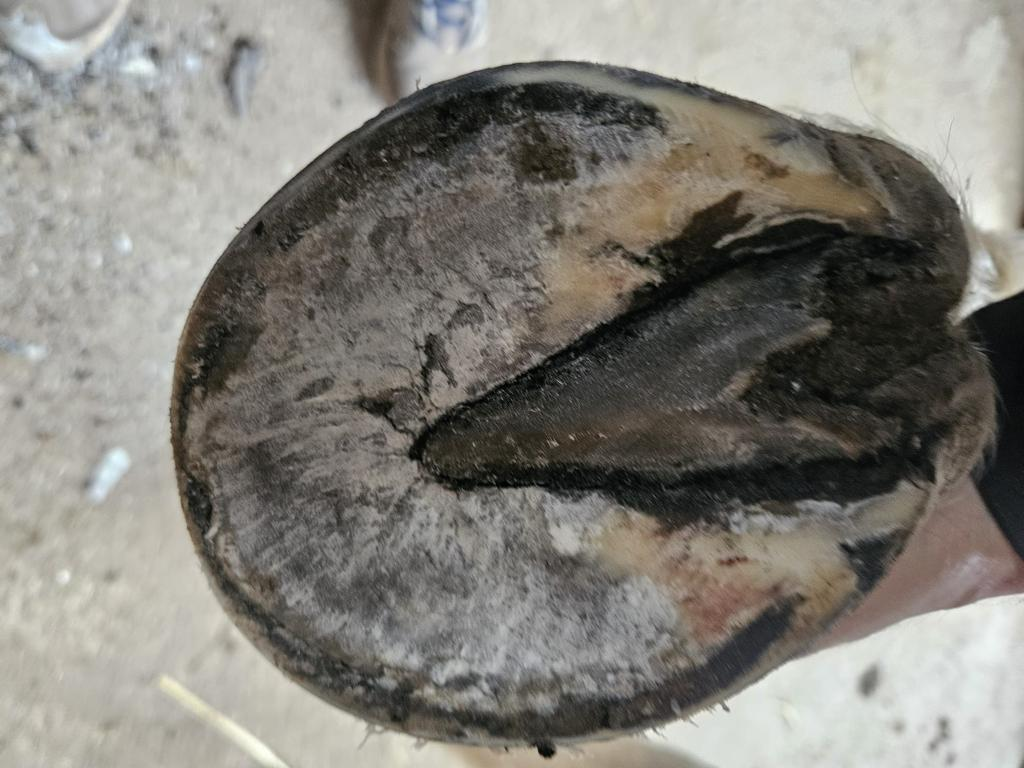horsesole: (170, 63, 896, 746)
